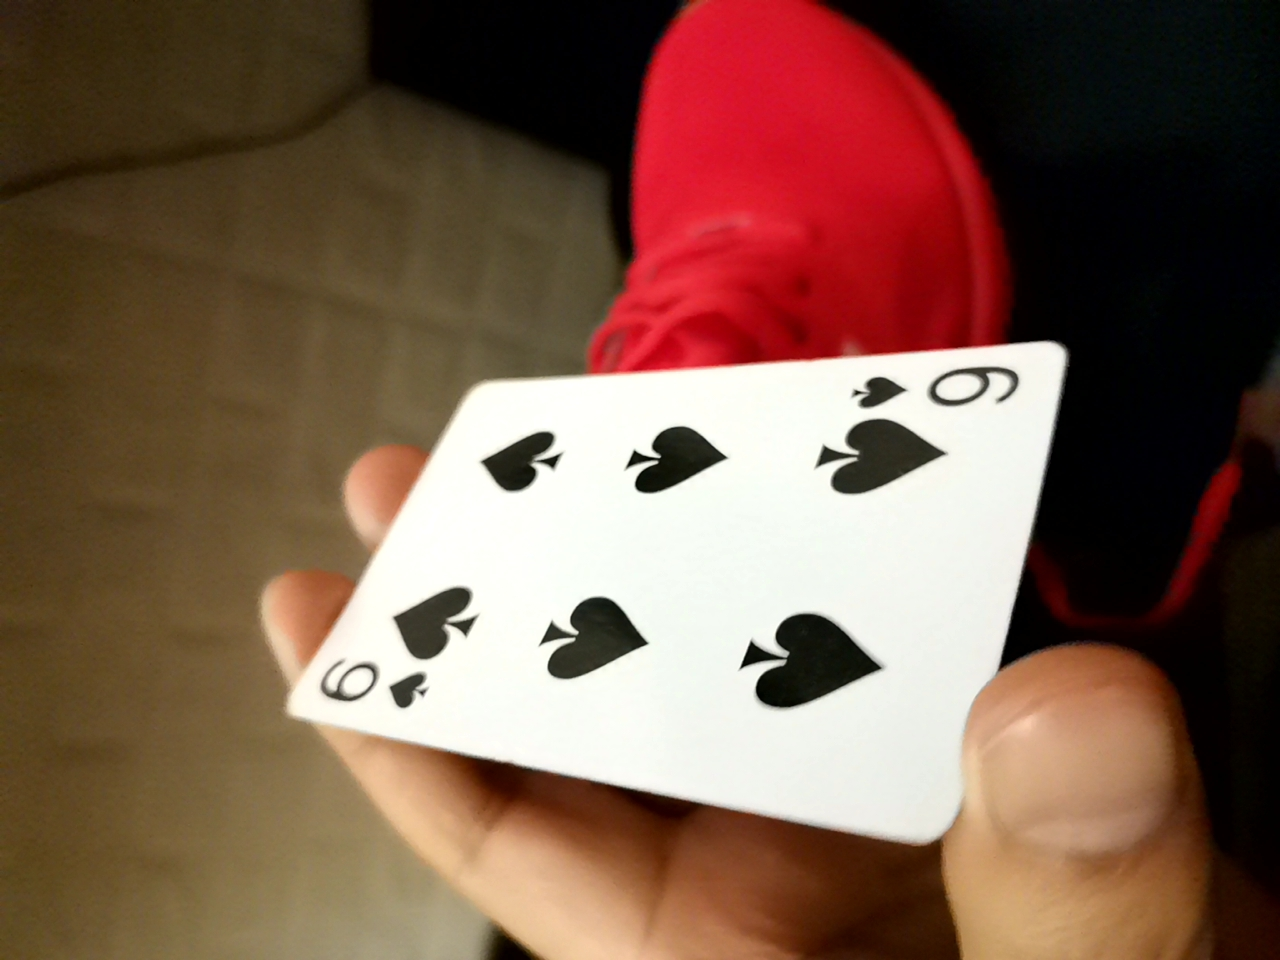ht 6: (259, 349, 1067, 820)
